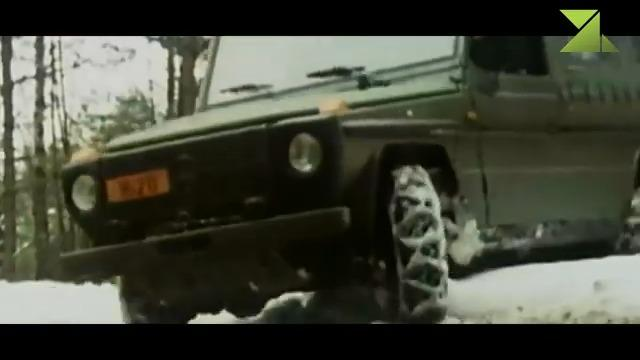MIL_HMMWV: (58, 36, 640, 325)
